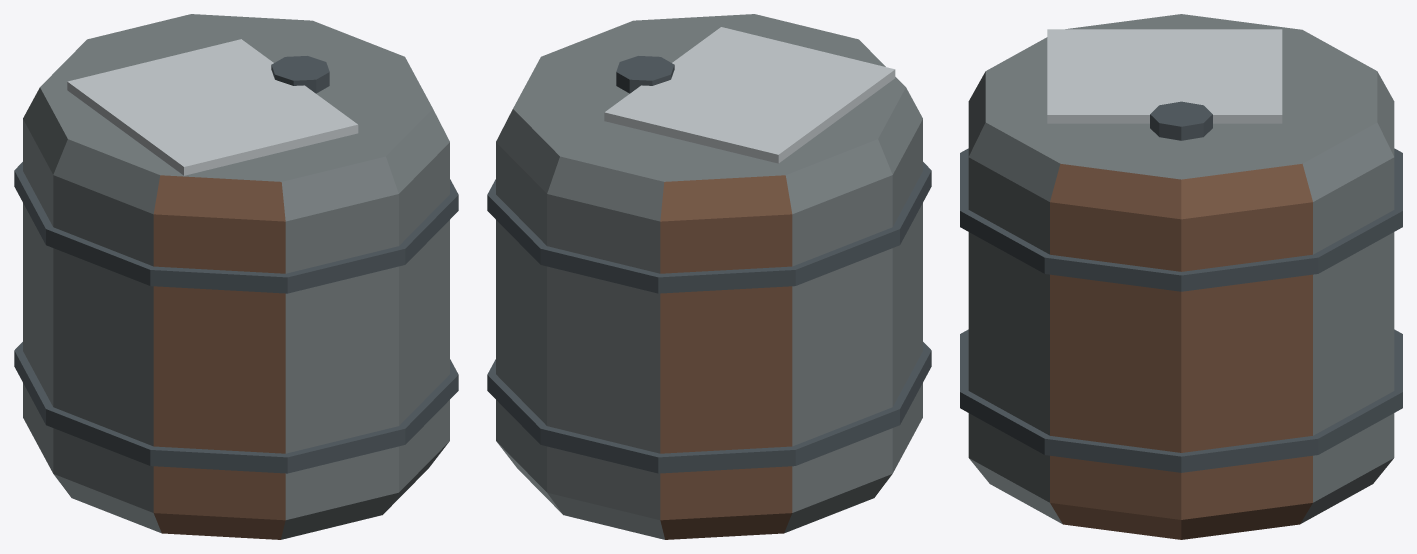
File: oil_drum.glb
3 views of the same model, side by side, from view 1: azimuth 30°, elevation 25°; view 2: azimuth 150°, elevation 25°; view 3: azimuth 270°, elevation 25° (orthographic).
Visible parts, largest first — view 1: oil_drum; view 2: oil_drum; view 3: oil_drum.
Part boxes in pixels (left/top/right/bottom): oil_drum: left=14, top=14, right=458, bottom=539; oil_drum: left=487, top=14, right=931, bottom=539; oil_drum: left=960, top=14, right=1402, bottom=539.
Size of the model in its own units: 0.96 by 0.9 by 0.96.
